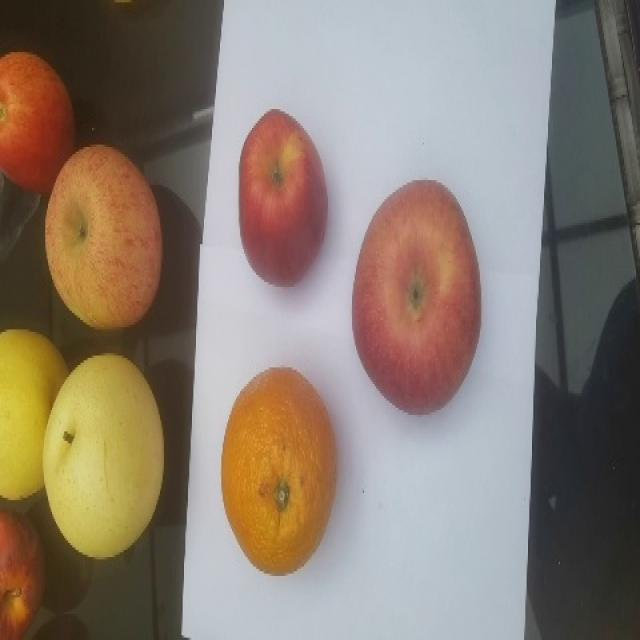Apple: (351, 178, 490, 419), (45, 144, 166, 331), (227, 108, 337, 288), (0, 47, 73, 192), (0, 503, 46, 640)
Orange: (218, 362, 340, 577)
